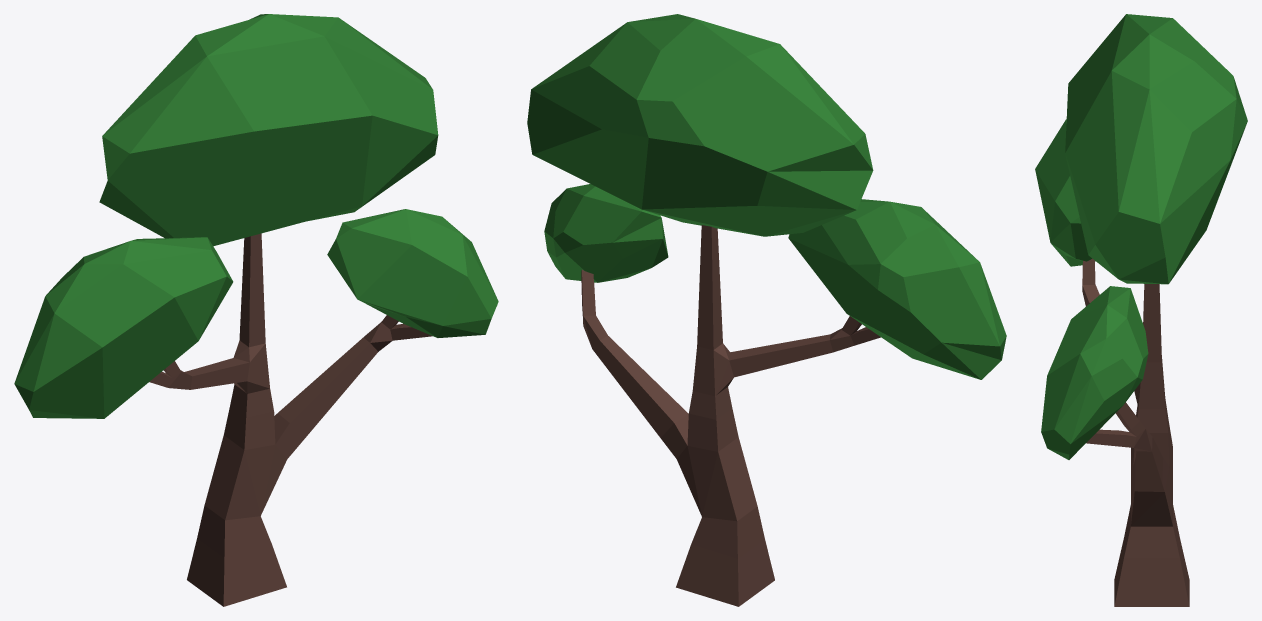
Rendered from Tree_11.fbx.
The picture shows the model from 3 angles, left to right: view 1: azimuth 30°, elevation 25°; view 2: azimuth 150°, elevation 25°; view 3: azimuth 270°, elevation 25°; orthographic projection. The views are drawn at different scales.
Parts seen in each view (by area): view 1: Tree_11; view 2: Tree_11; view 3: Tree_11.
Part boxes in pixels (box(x1,y1,x2,y2)): Tree_11: box(14, 14, 498, 606); Tree_11: box(527, 14, 1006, 606); Tree_11: box(1035, 14, 1247, 606).
Bounding box in the file's own units: 1742 × 1999 × 669.
